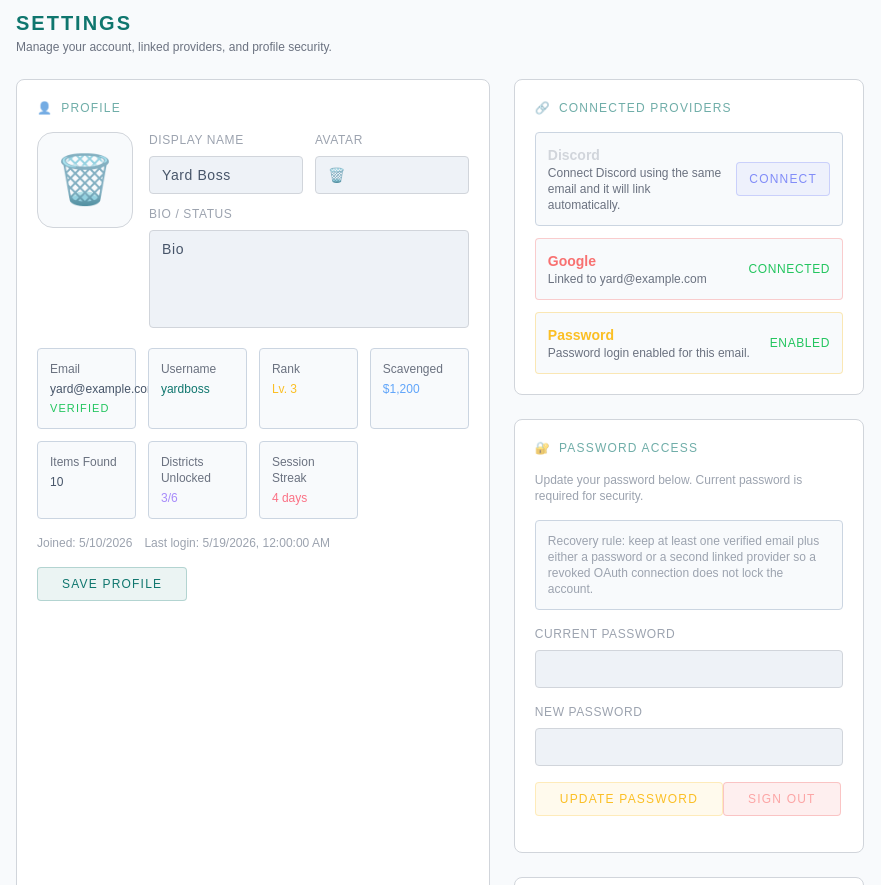
Scenario: SettingsPage › saves updated profile values
Replace the text in the field showing "Yard Boss" with "Scrap King" at [226, 175], box x1=149 y1=156 x2=303 y2=194
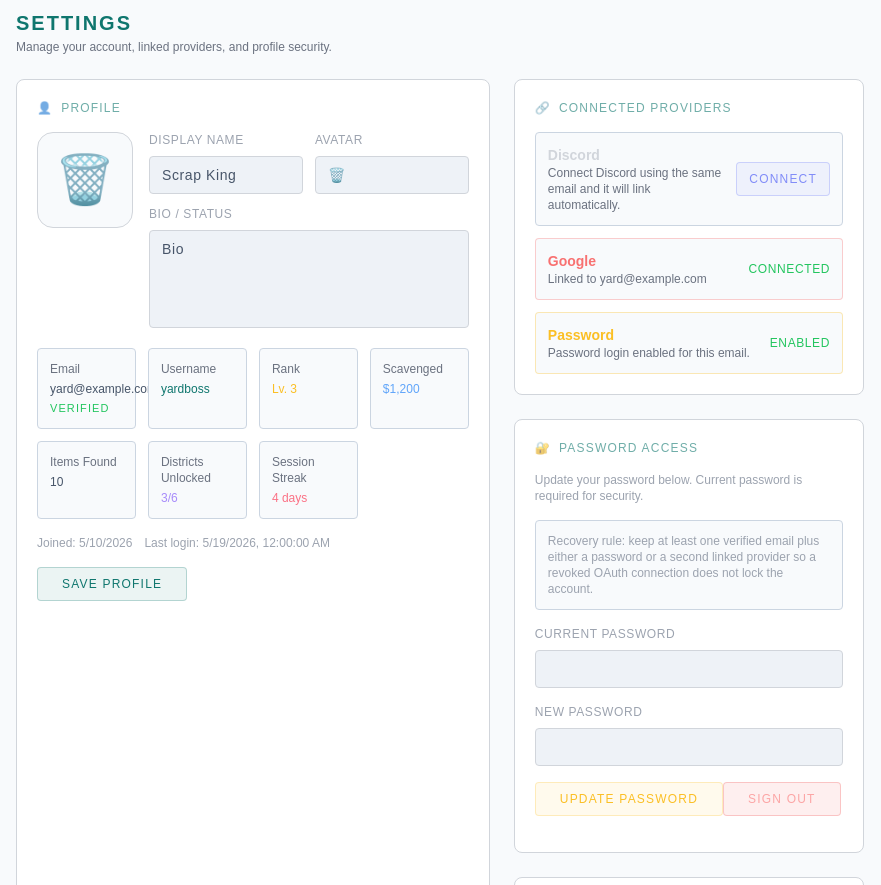
Click the button "Save Profile" at [112, 584], box x1=37 y1=567 x2=187 y2=601
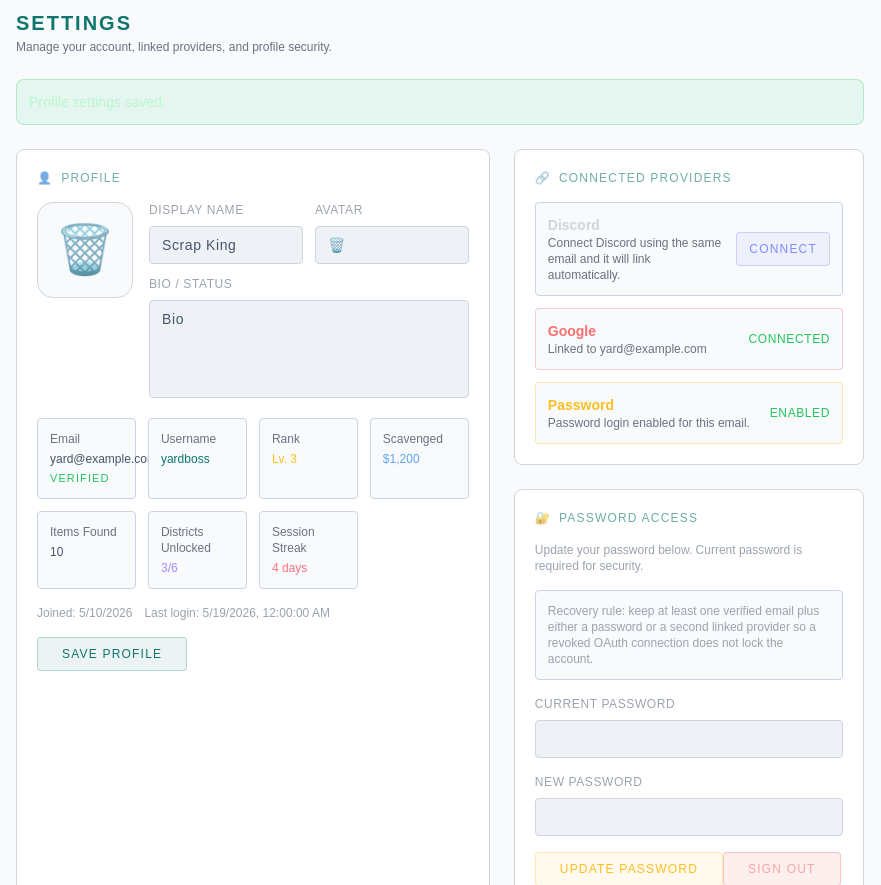
Result: the text "Profile settings saved." is shown at x1=16 y1=79 x2=864 y2=125
